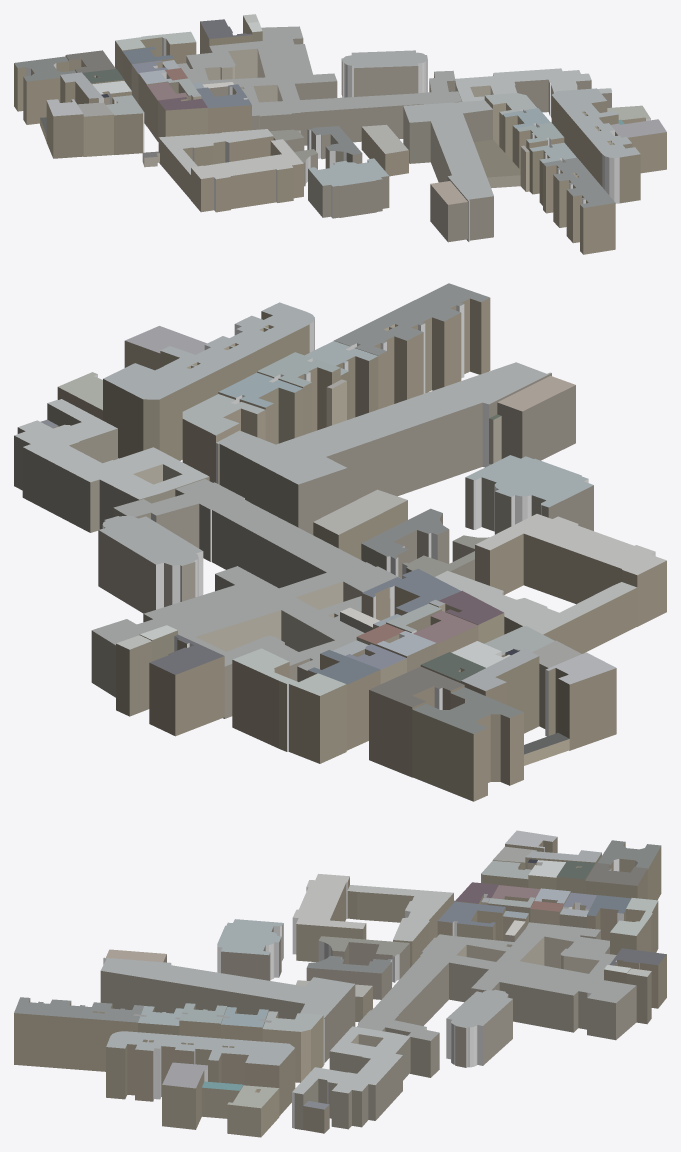
3 renders of one model, top to bottom at view 1: azimuth 30°, elevation 25°; view 2: azimuth 150°, elevation 25°; view 3: azimuth 270°, elevation 25°, orthographic. The views are drawn at different scales.
Visible parts, largest first — view 1: tuile; view 2: tuile; view 3: tuile.
Boxes of the visible parts, bbox=[...] form: tuile: bbox=[14, 14, 666, 254]; tuile: bbox=[14, 283, 666, 801]; tuile: bbox=[14, 830, 666, 1137].
Size of the model in its own units: 262 by 27.34 by 283.
